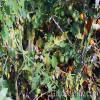Tomato Early blight leaf: (53, 31, 69, 46), (70, 23, 84, 39), (44, 53, 51, 73), (33, 14, 43, 28), (22, 62, 34, 71), (35, 37, 43, 48), (42, 42, 51, 49)
Tomato leaf: (51, 55, 57, 71)
